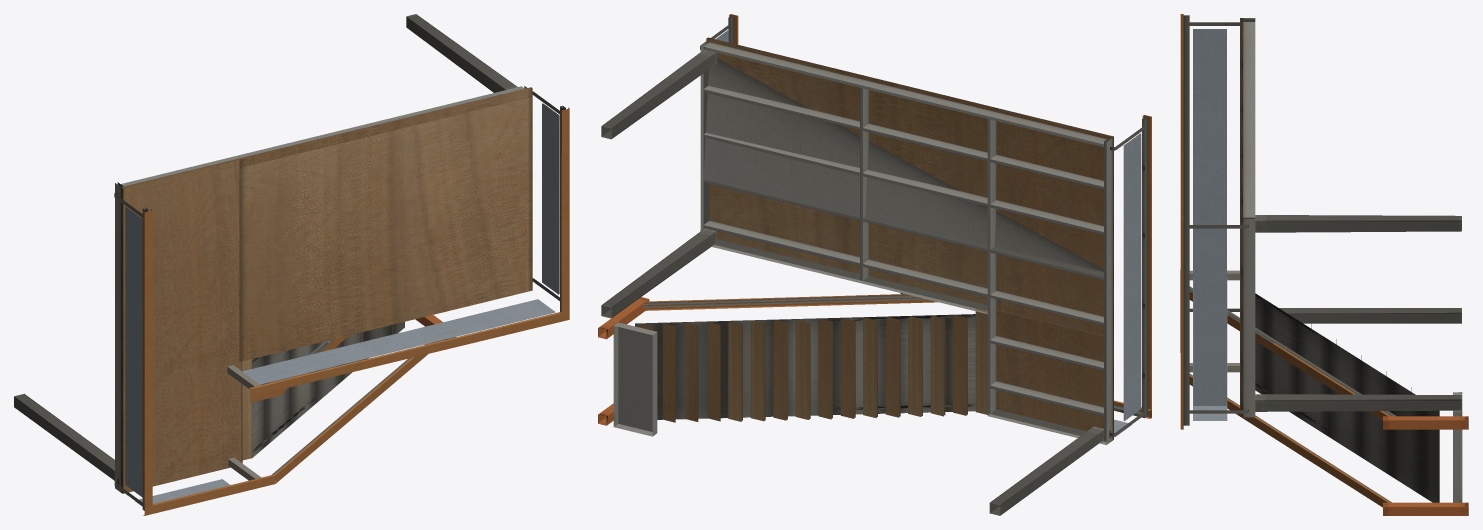
The model's file is nt_2020_house_01_balcony_LOD2.obj.
The picture shows the model from 3 angles, left to right: view 1: azimuth 30°, elevation 25°; view 2: azimuth 150°, elevation 25°; view 3: azimuth 270°, elevation 25°; orthographic projection.
Parts seen in each view (by area): view 1: mtl_nt_2020_house_01_balcony, glass_clear_mp_model; view 2: mtl_nt_2020_house_01_balcony, glass_clear_mp_model; view 3: mtl_nt_2020_house_01_balcony, glass_clear_mp_model.
Part boxes in pixels (bbox=[...]): mtl_nt_2020_house_01_balcony: bbox=[14, 14, 569, 515]; glass_clear_mp_model: bbox=[125, 103, 559, 506]; mtl_nt_2020_house_01_balcony: bbox=[598, 14, 1151, 515]; glass_clear_mp_model: bbox=[716, 30, 1141, 436]; mtl_nt_2020_house_01_balcony: bbox=[1180, 14, 1468, 515]; glass_clear_mp_model: bbox=[1193, 29, 1227, 420].
Bounding box in the file's own units: 792 × 550 × 468.
